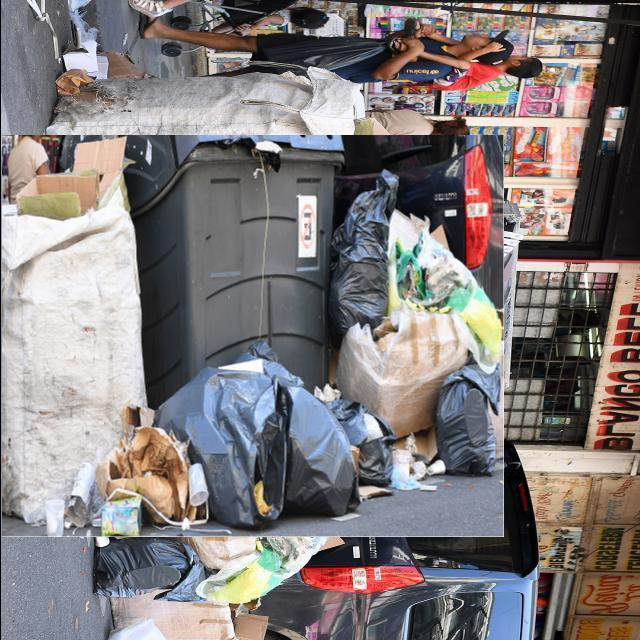Trashbag: (146, 340, 364, 522), (325, 175, 402, 343), (96, 524, 207, 604), (432, 366, 502, 480)
